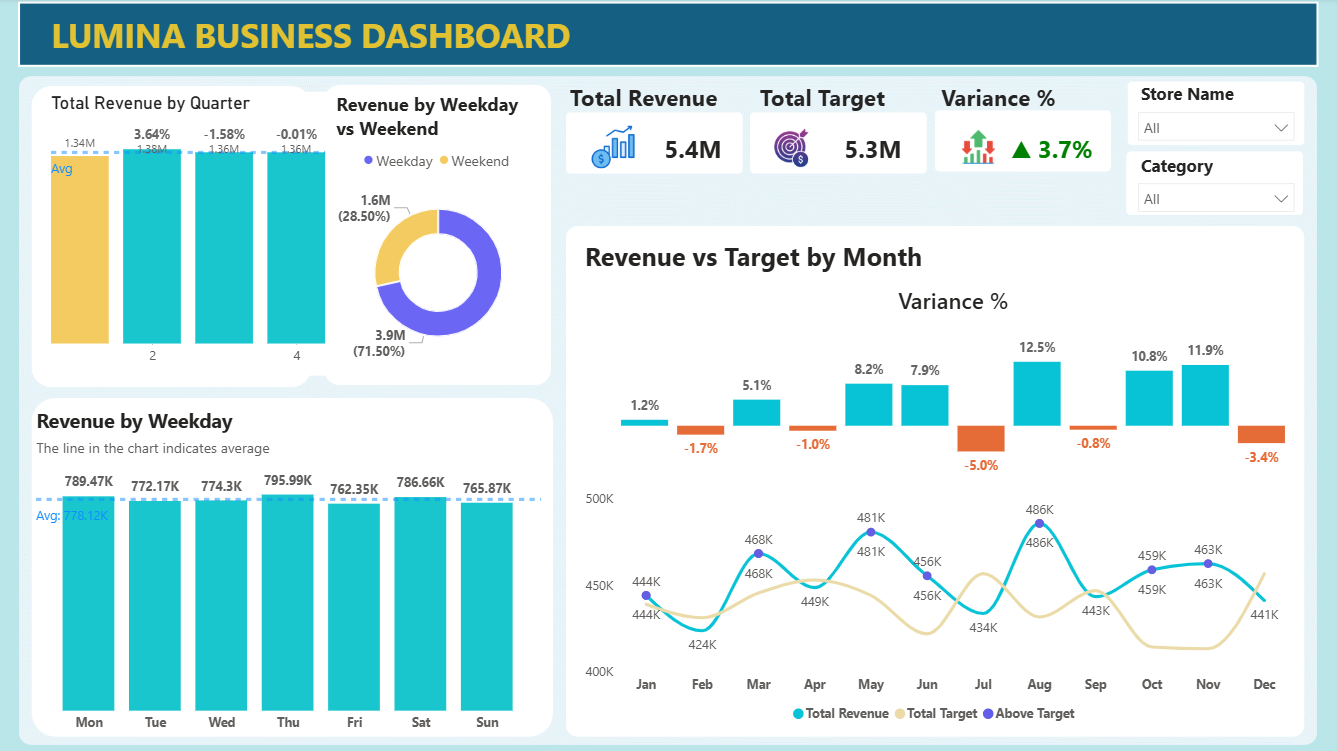

The page's visual inventory and layout, read from the dashboard file:
{"tool":"powerbi","page":{"name":"Time Frame Analysis","canvas":[1280,720],"ordinal":2},"visuals":[{"type":"cardVisual","fields":{"Data":["Key Measures.Total Revenue"]},"box":[541.7,109.5,173,65],"z":0},{"type":"lineChart","fields":{"Y":["Key Measures.Total Revenue","Key Measures.Total Target","Key Measures.Above Target"],"Category":["Dimension Date.Month Name"]},"box":[556,463.1,678.6,236.9],"z":1000},{"type":"clusteredColumnChart","title":"Variance %","fields":{"Y":["Key Measures.% Variance"],"Category":["Dimension Date.Month Name"]},"box":[590.5,272.6,642.9,190.5],"z":2000},{"type":"donutChart","title":"Revenue by Weekday vs Weekend","fields":{"Category":["Dimension Date.Week Type"],"Y":["Key Measures.Total Revenue"]},"box":[319,89.3,204.8,270.2],"z":3000},{"type":"clusteredColumnChart","title":"Revenue by Weekday","fields":{"Category":["Dimension Date.Day Name"],"Y":["Key Measures.Total Revenue"]},"box":[33.3,389.3,490.5,319],"z":4000},{"type":"cardVisual","fields":{"Data":["Key Measures.Total Target"]},"box":[713.1,109.5,173,65],"z":5000},{"type":"cardVisual","fields":{"Data":["Key Measures.Vraince % Indicator"]},"box":[895.2,109.5,173.8,65.5],"z":6000},{"type":"slicer","fields":{"Values":["products_table.Category"]},"box":[1077.4,142.9,169,70.2],"z":7000},{"type":"slicer","fields":{"Values":["sales_persons_table.Store Name"]},"box":[1077.4,75,169,70.2],"z":8000},{"type":"textbox","box":[556,225,377.4,89.3],"z":9000},{"type":"textbox","box":[541.7,75,159.5,39.3],"z":10000},{"type":"textbox","box":[722.6,75,131,39.3],"z":11000},{"type":"textbox","box":[895.2,75,123.8,39.3],"z":12000},{"type":"textbox","box":[47.6,8.3,526.2,53.6],"z":13000},{"type":"clusteredColumnChart","fields":{"Y":["Key Measures.Total Revenue"],"Category":["Dimension Date.Quarter"]},"box":[48,89,271,270],"z":14000}]}

Visuals, with their boxes in screenshot pixels (x1, y1, x2, y2), scaled from the page's 1280x720 canvas onto the 1337x751 screenshot:
cardVisual - Key Measures.Total Revenue: 566:114:747:182
lineChart - Key Measures.Total Revenue x Key Measures.Total Target: 581:483:1290:730
"Variance %" clusteredColumnChart: 617:284:1288:483
"Revenue by Weekday vs Weekend" donutChart: 333:93:547:375
"Revenue by Weekday" clusteredColumnChart: 35:406:547:739
cardVisual - Key Measures.Total Target: 745:114:926:182
cardVisual - Key Measures.Vraince % Indicator: 935:114:1117:183
slicer - products_table.Category: 1125:149:1302:222
slicer - sales_persons_table.Store Name: 1125:78:1302:151
textbox: 581:235:975:328
textbox: 566:78:732:119
textbox: 755:78:892:119
textbox: 935:78:1064:119
textbox: 50:9:599:65
clusteredColumnChart - Key Measures.Total Revenue x Dimension Date.Quarter: 50:93:333:374
